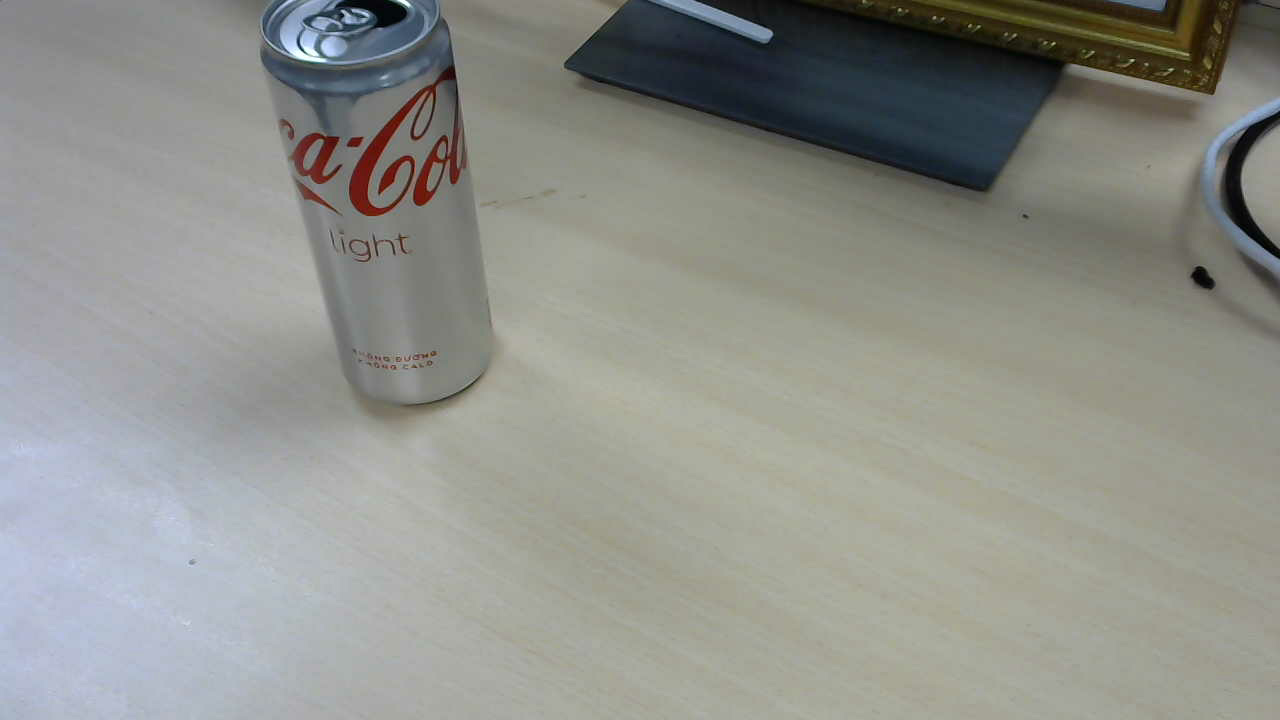Coca_Cola: (262, 4, 499, 411)
